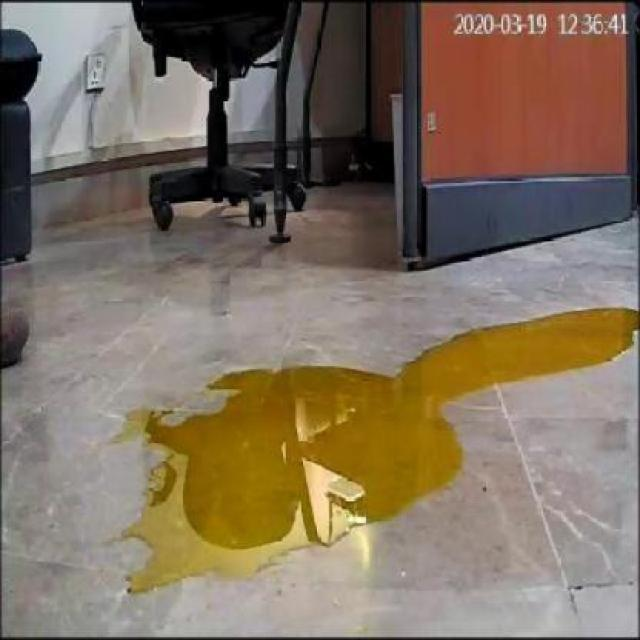spillage: (110, 308, 639, 596)
